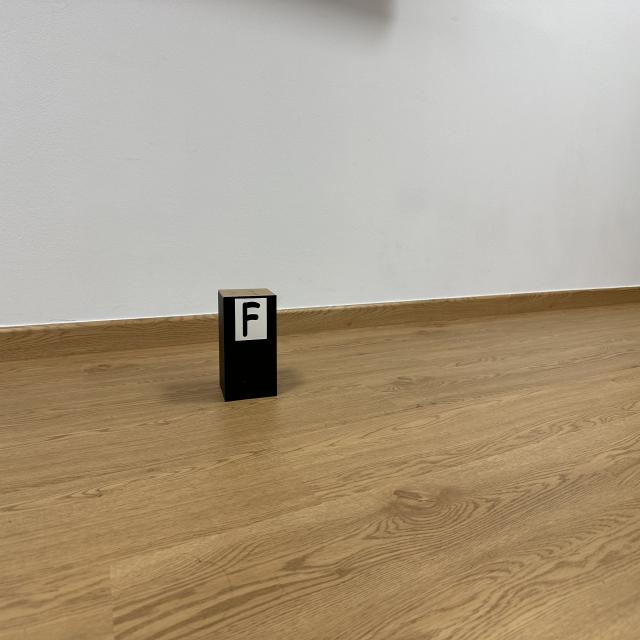F: (242, 301, 260, 337)
